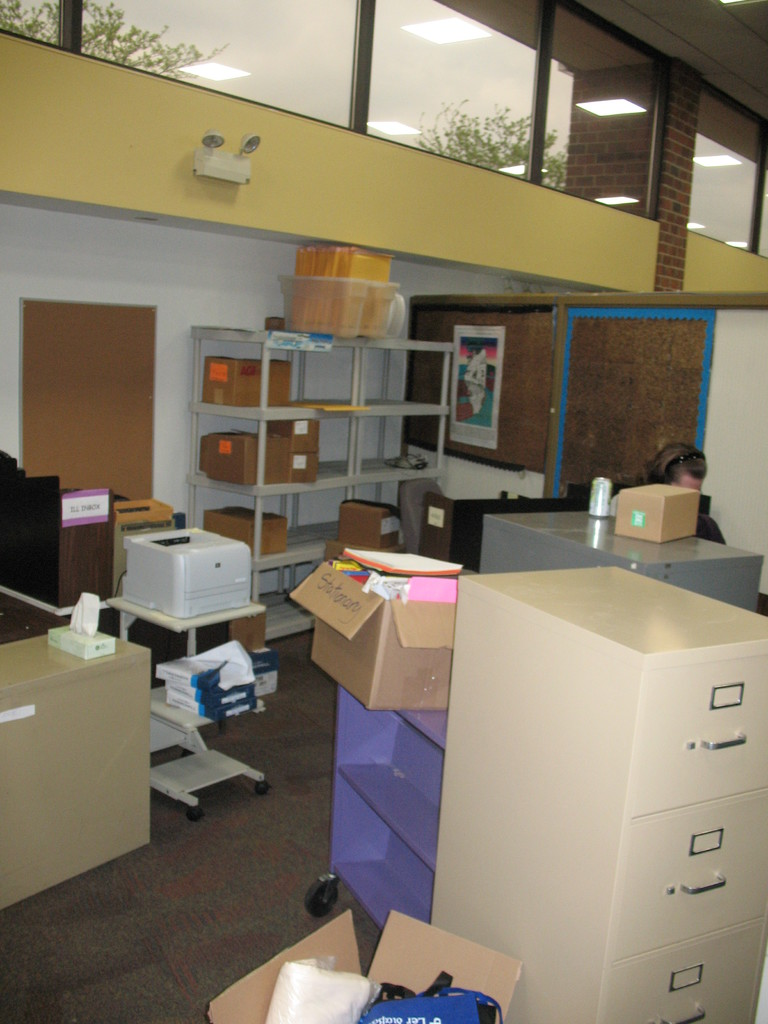cabinet door: (647, 666, 768, 788), (633, 825, 766, 913), (623, 960, 746, 1024)
door: (26, 304, 151, 485)
handle: (700, 725, 748, 762), (676, 869, 728, 903), (662, 1006, 710, 1024)
